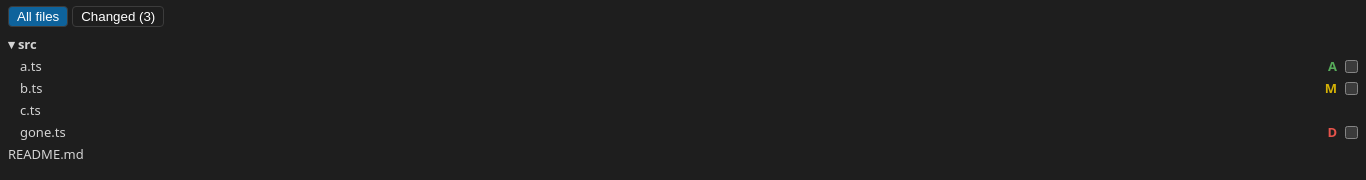
Test: FileTree › toggle returns to all files and marks the pressed button
Click the button "Changed (3)": (118,16) [72,6,164,27]
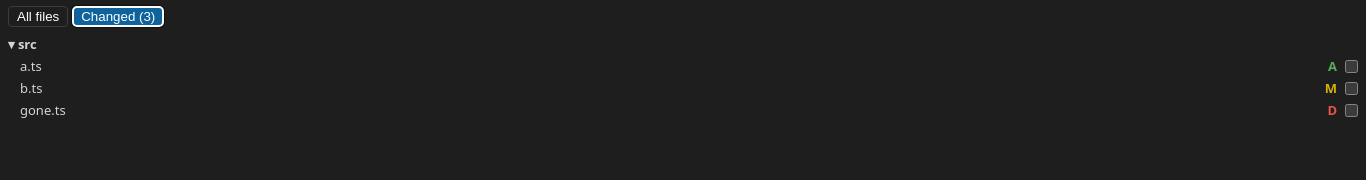
Click the button "All files": (38,16) [8,6,68,27]
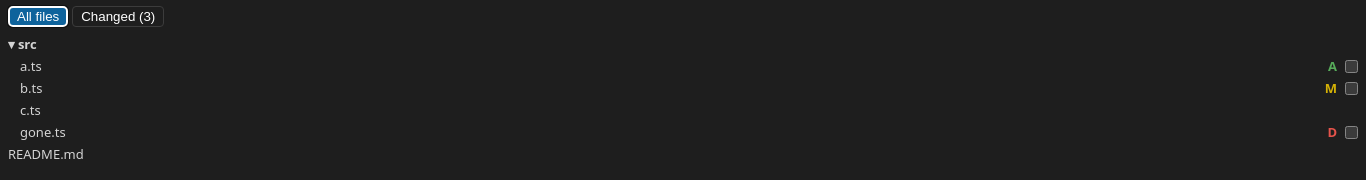
Expected: the text "README.md" is shown, [8,145,84,163]
